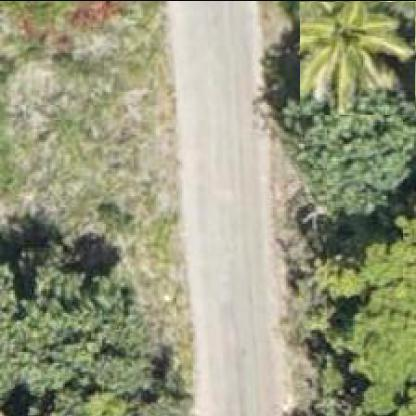coconut tree: (299, 0, 415, 114)
